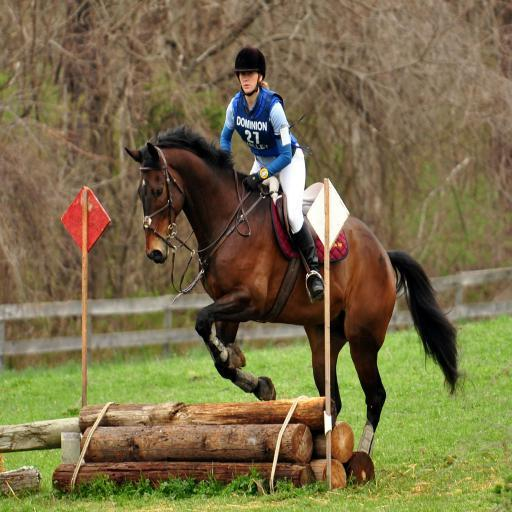horse: (124, 124, 470, 458)
